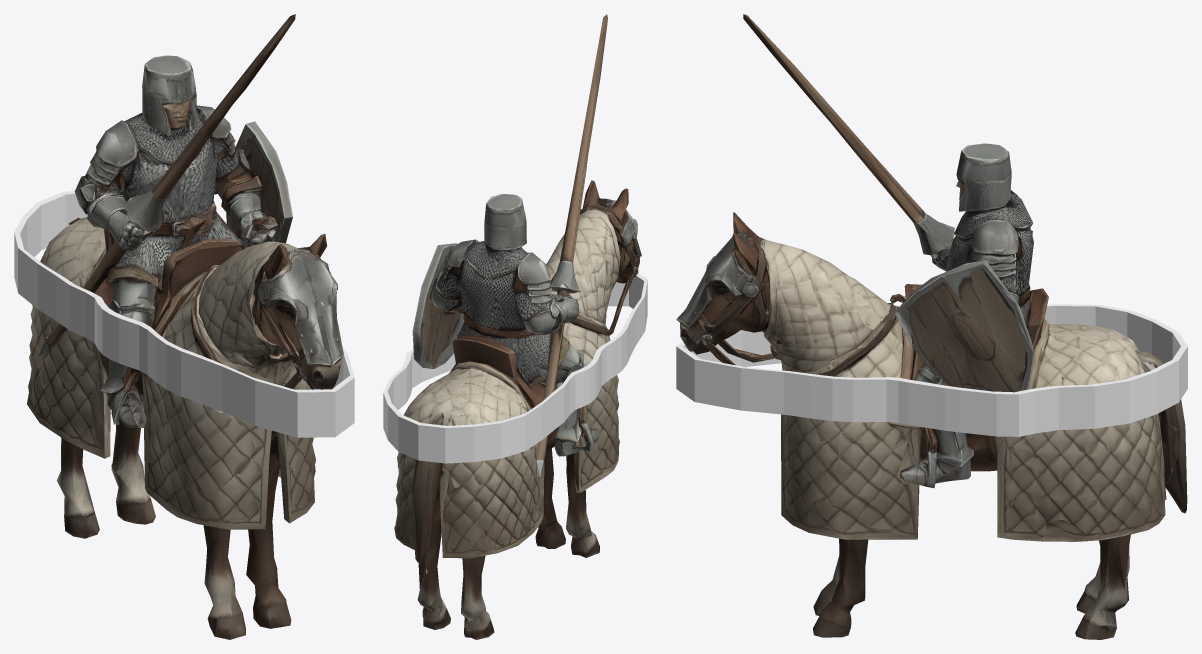
Rendered from knight.glb.
3 views of the same model, side by side, from view 1: azimuth 30°, elevation 25°; view 2: azimuth 150°, elevation 25°; view 3: azimuth 270°, elevation 25° (orthographic). The views are drawn at different scales.
Visible parts, largest first — view 1: knight, Team_band; view 2: knight, Team_band; view 3: knight, Team_band.
Boxes of the visible parts, x1=… form: knight: x1=27, y1=14, x2=343, y2=639; Team_band: x1=14, y1=190, x2=354, y2=437; knight: x1=394, y1=14, x2=641, y2=639; Team_band: x1=383, y1=273, x2=647, y2=463; knight: x1=676, y1=14, x2=1187, y2=639; Team_band: x1=676, y1=304, x2=1187, y2=436.
Size of the model in its own units: 0.6053 by 1.9 by 1.45.
Materials: 2 (1 with a texture image).
